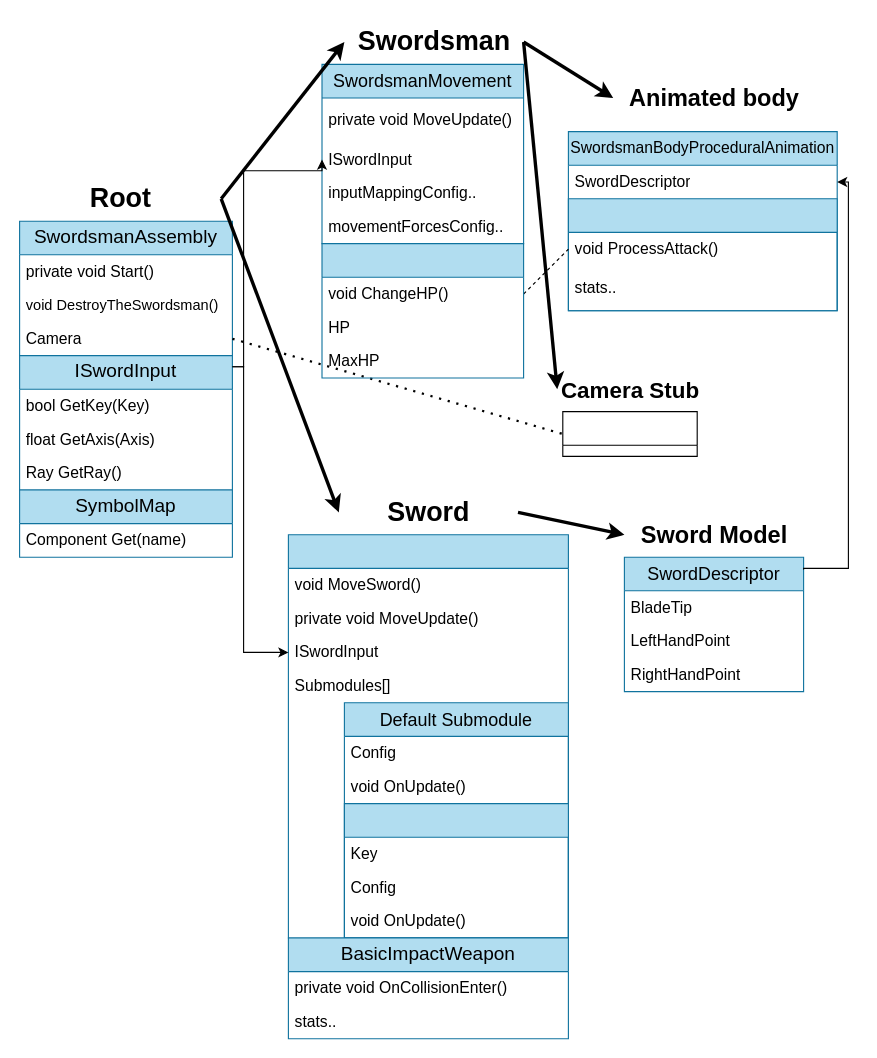
The diagram is 877 pixels wide and 1058 high, and some of its shapes have lost their labels. Each missing label, with the box of its shape:
Damageable: (321, 242, 524, 378)
IArmorPiece: (567, 198, 837, 311)
Submodule 1..N: (343, 802, 568, 938)
SwordMovement: (287, 534, 568, 938)
